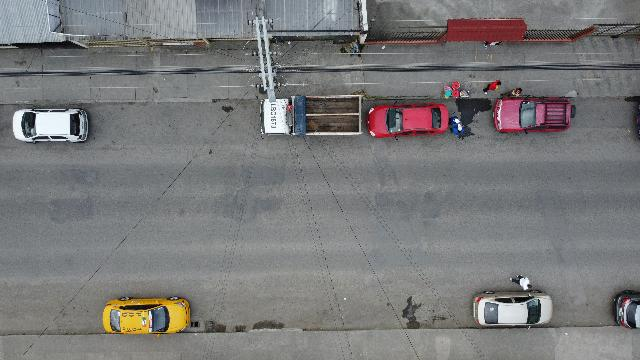Vehiculo: (102, 296, 190, 334), (472, 289, 552, 328), (494, 95, 576, 133), (368, 102, 450, 138), (12, 107, 88, 143), (614, 290, 640, 329)
